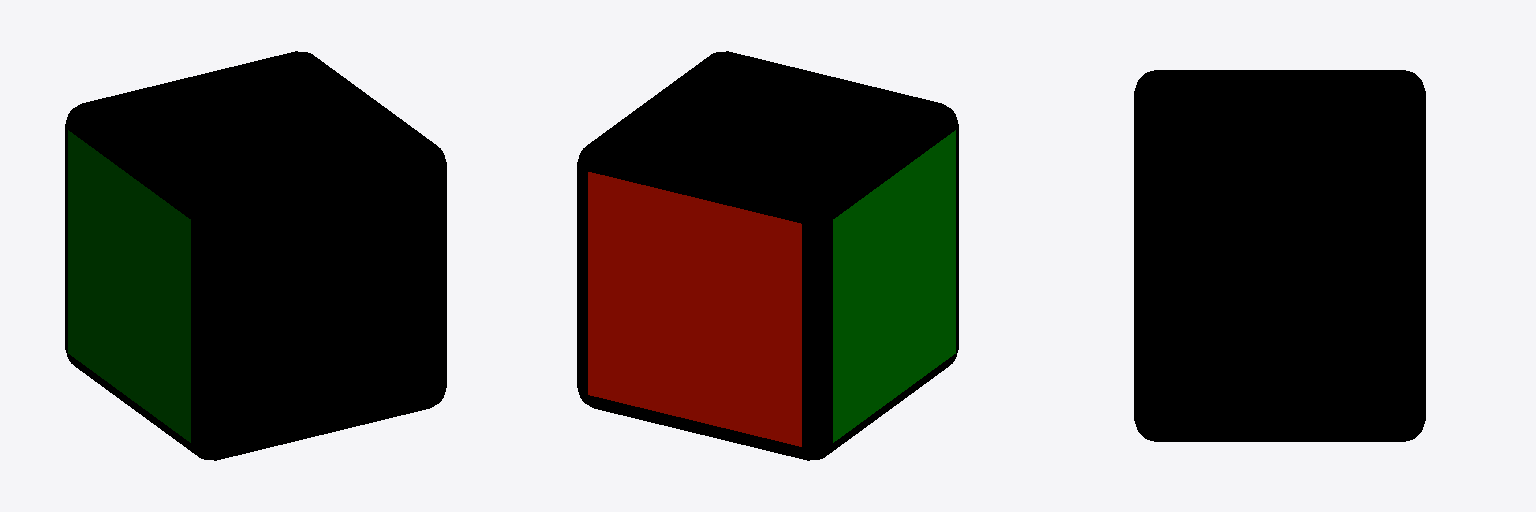
The model's file is piece_111.obj.
3 renders of one model, left to right at view 1: azimuth 30°, elevation 25°; view 2: azimuth 150°, elevation 25°; view 3: azimuth 270°, elevation 25°, orthographic.
Parts seen in each view (by area): view 1: Cube.011_Cube.012; view 2: Cube.011_Cube.012; view 3: Cube.011_Cube.012.
Boxes of the visible parts, x1=… form: Cube.011_Cube.012: x1=65, y1=51, x2=446, y2=460; Cube.011_Cube.012: x1=577, y1=51, x2=958, y2=460; Cube.011_Cube.012: x1=1134, y1=70, x2=1425, y2=441.
Size of the model in its own units: 2 by 2 by 2.